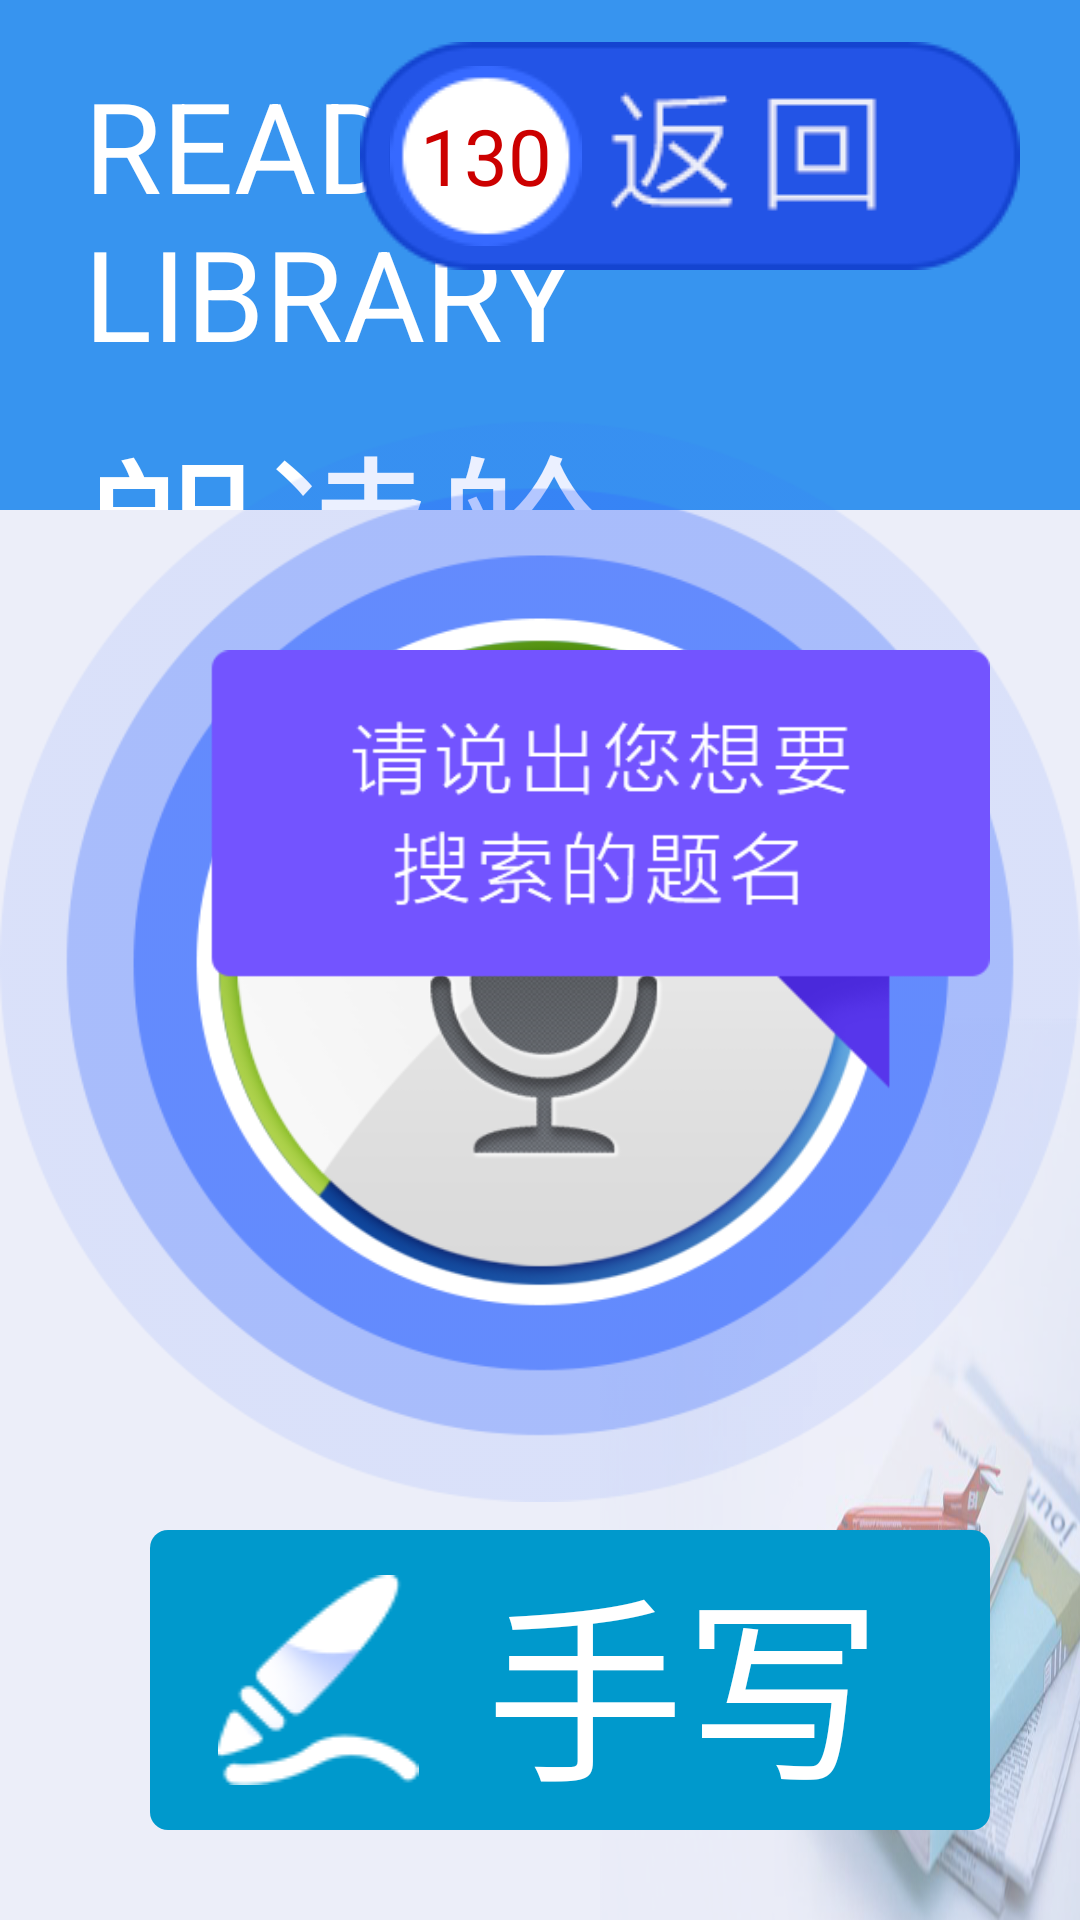

Icon click points for this 1080w x 1920h phone screenshot, format [x,y]:
write: [318,1680]
